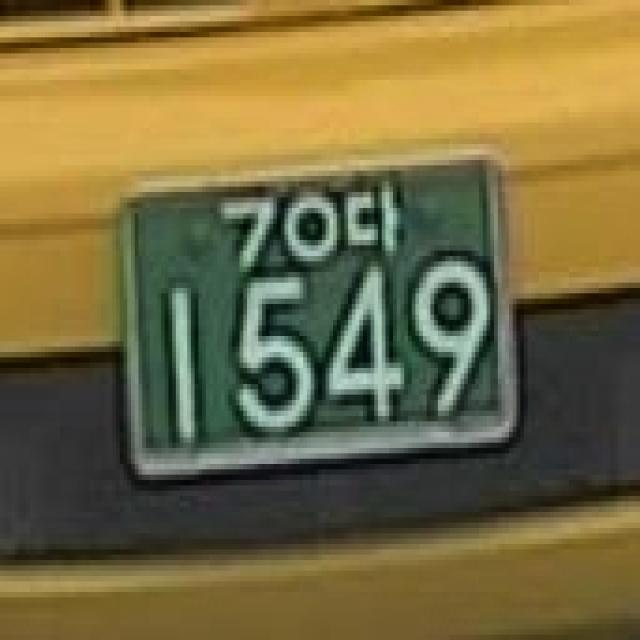illegal_plate: (106, 147, 523, 489)
